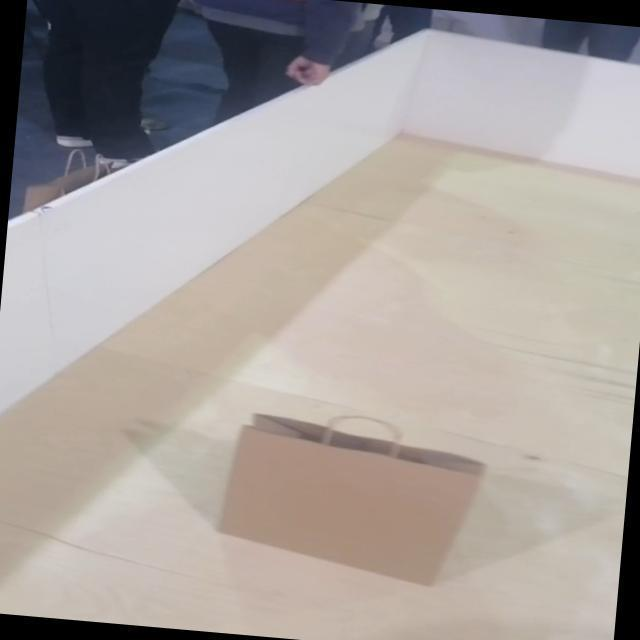Paper_Bag: (210, 403, 490, 592)
